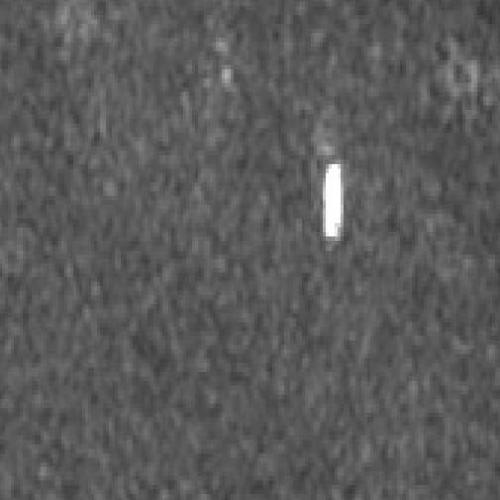ship: (322, 157, 344, 242)
